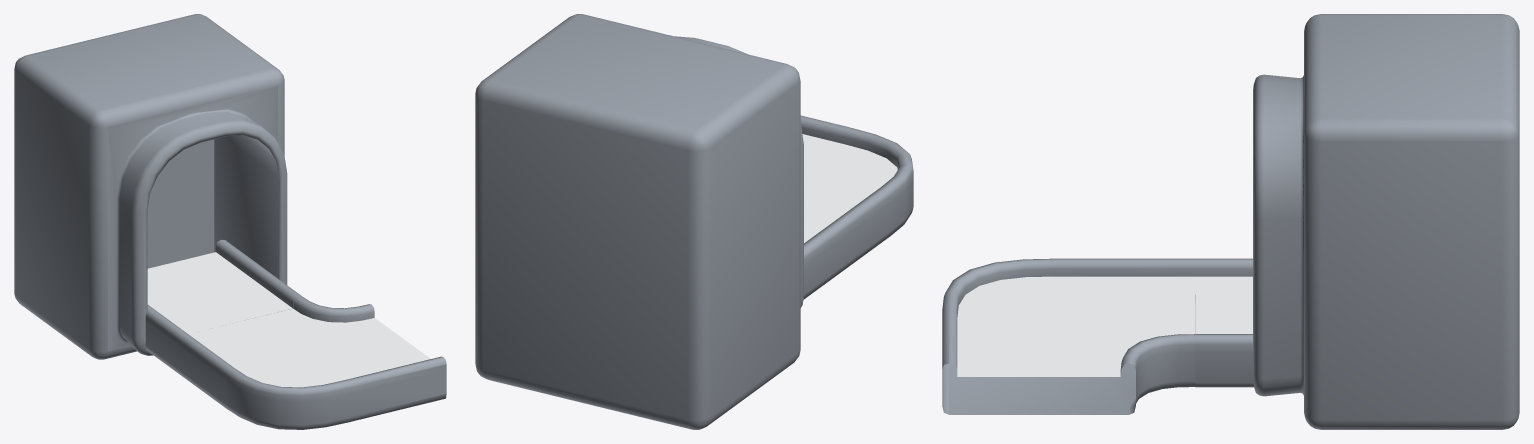
File: ProductBelt-Gray.fbx
3 views of the same model, side by side, from view 1: azimuth 30°, elevation 25°; view 2: azimuth 150°, elevation 25°; view 3: azimuth 270°, elevation 25° (orthographic). The views are drawn at different scales.
Parts seen in each view (by area): view 1: ProductBelt-Gray, L-path.002, I-path.002; view 2: ProductBelt-Gray, L-path.002, I-path.002; view 3: ProductBelt-Gray, L-path.002, I-path.002.
Boxes of the visible parts, x1,y1,x2,y2 form: ProductBelt-Gray: (14,14,287,359); L-path.002: (169,296,446,429); I-path.002: (145,240,301,366); ProductBelt-Gray: (475,14,803,429); L-path.002: (800,115,913,285); I-path.002: (803,236,823,299); ProductBelt-Gray: (1253,14,1519,429); L-path.002: (942,258,1195,414); I-path.002: (1195,258,1254,387).
Bounding box in the file's own units: 137 × 158 × 268.
